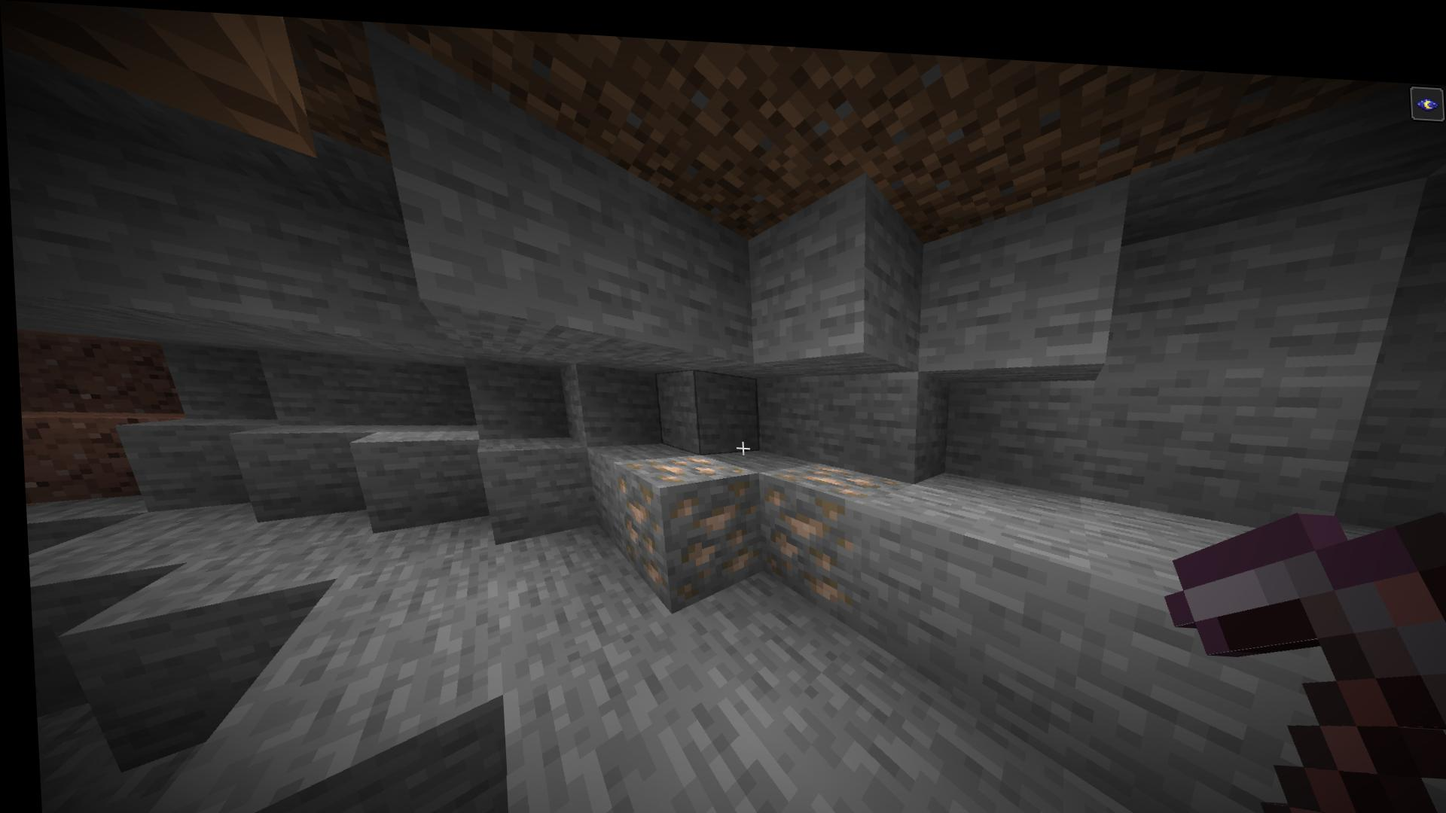iron ore: (611, 440, 763, 611), (756, 448, 911, 613)
